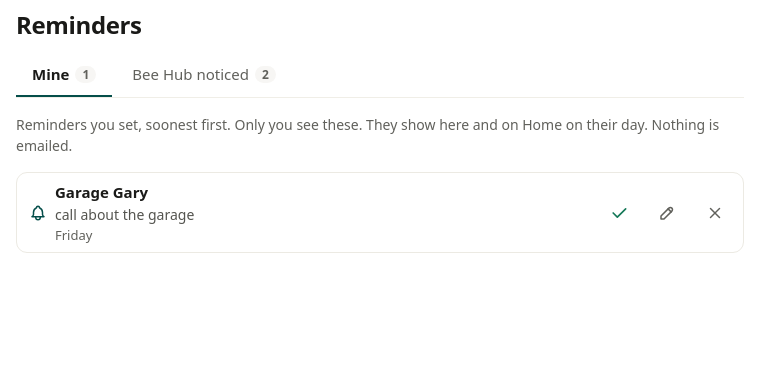
it: B) two tabs: Mine and Bee Hub noticed › Bee Hub noticed lists only the waiting estimates, says it is shared, and has nothing to tick
Step 1. Click the tab with test id "reminders-tab-noticed" → (204, 75), box [116,53,292,97]
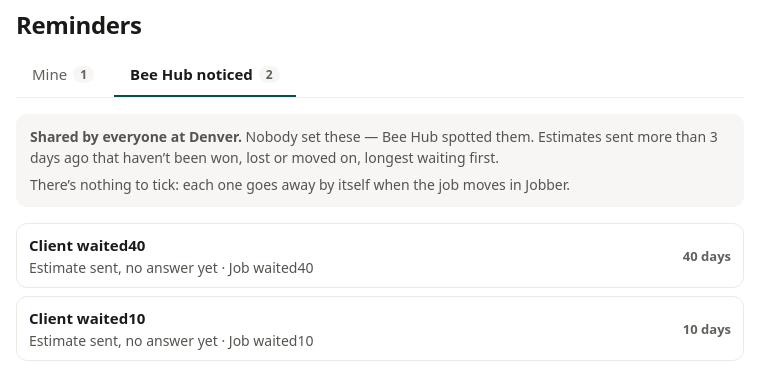
Expected: the element with test id "noticed-explainer" shows "Shared by everyone at Denver", [16,114,744,207]
Expected: the panel with test id "reminders-noticed" shows "goes away by itself when the job moves", [30,175,570,194]
Expected: the text with test id "noticed-days" reads "40 days", [683,246,731,264]
